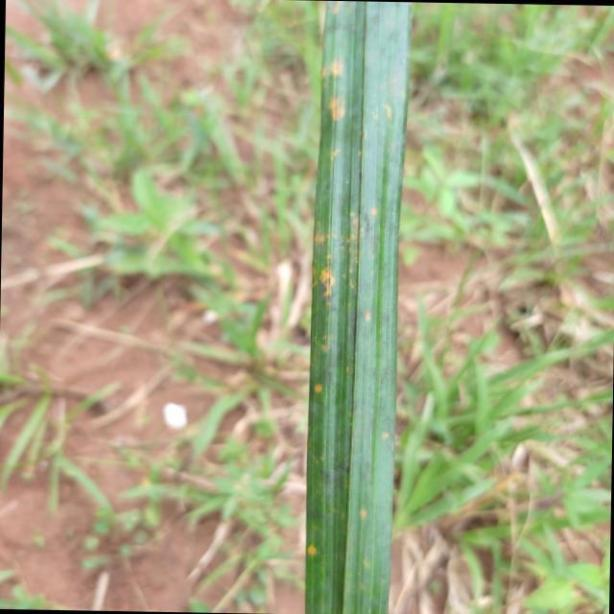Kalium: (306, 0, 413, 614)
